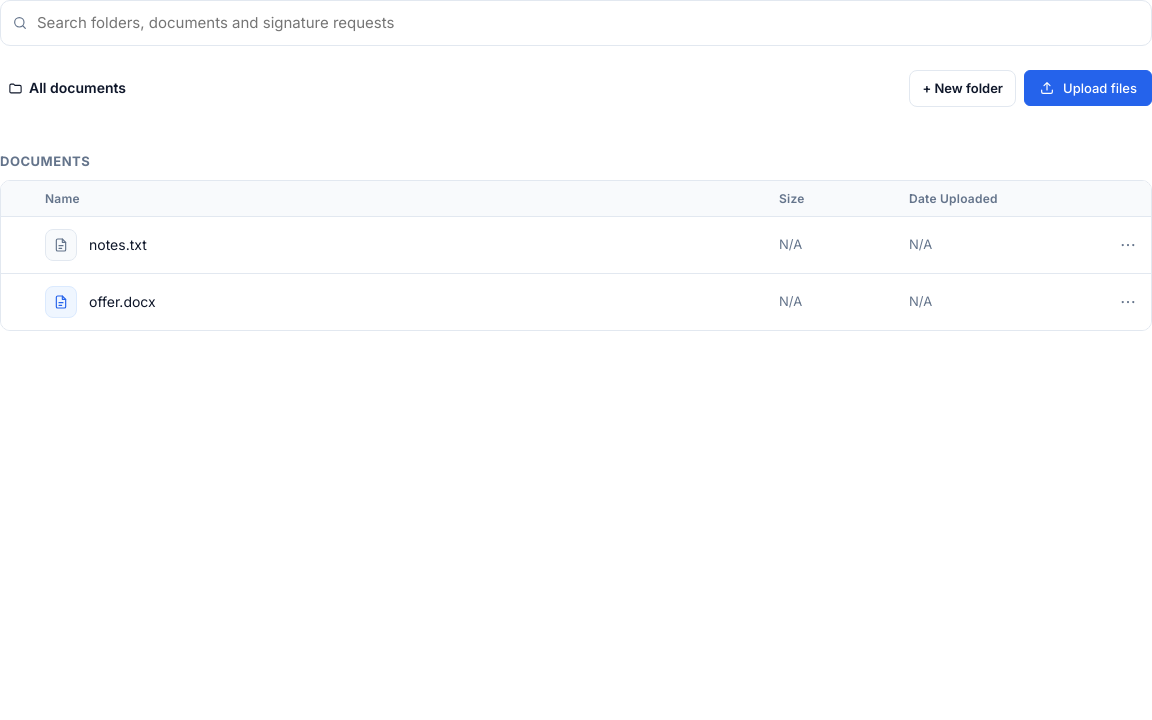
Test: a text file is shown as text, and a document that can’t be shown says so
This screenshot has width=1152, height=720.
Click the button with aria-label "Open notes.txt" at (118, 245), box [89,234,147,256]
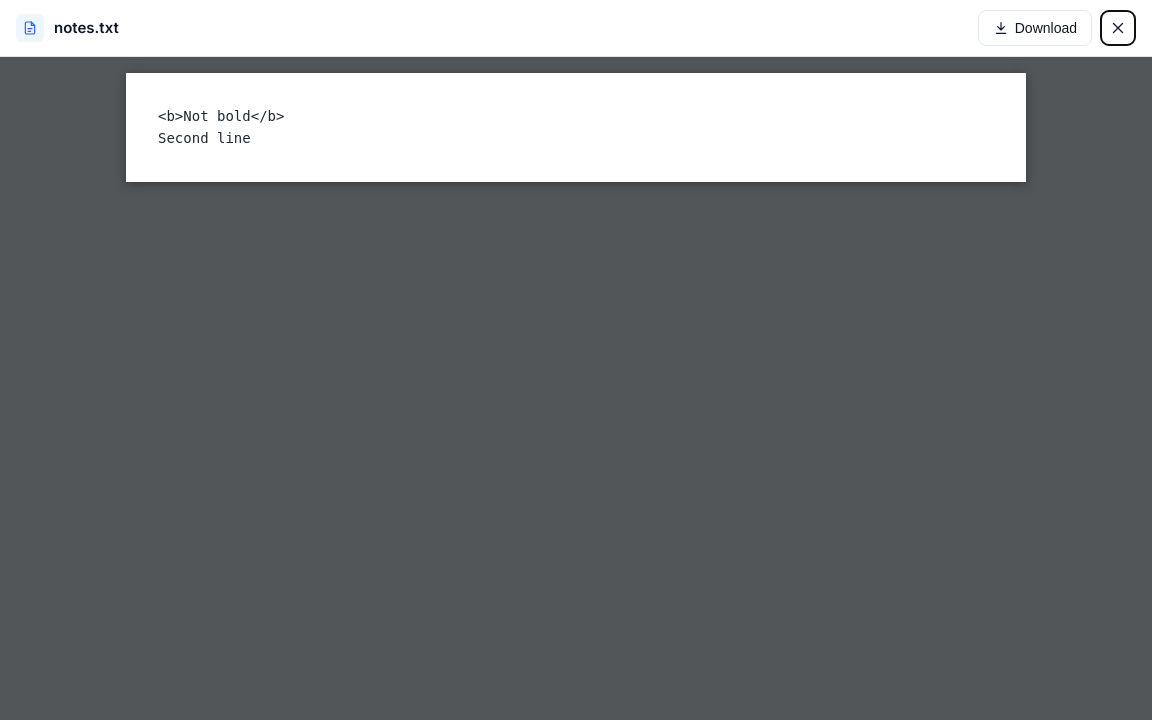
expect the text "<b>Not bold</b> Second line" is shown: met, box [126,73,1026,182]
Click the button named "Close" at (1118, 28), box [1100,10,1136,46]
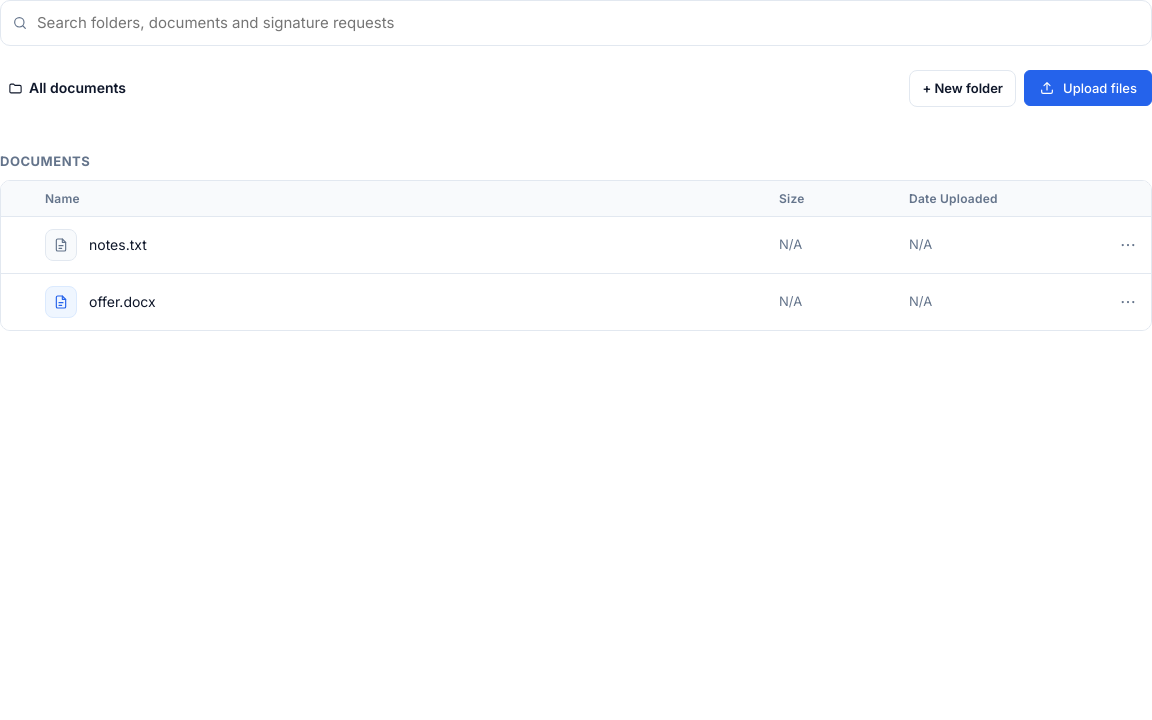
Click the button with aria-label "Open offer.docx" at (122, 302), box [89,291,156,313]
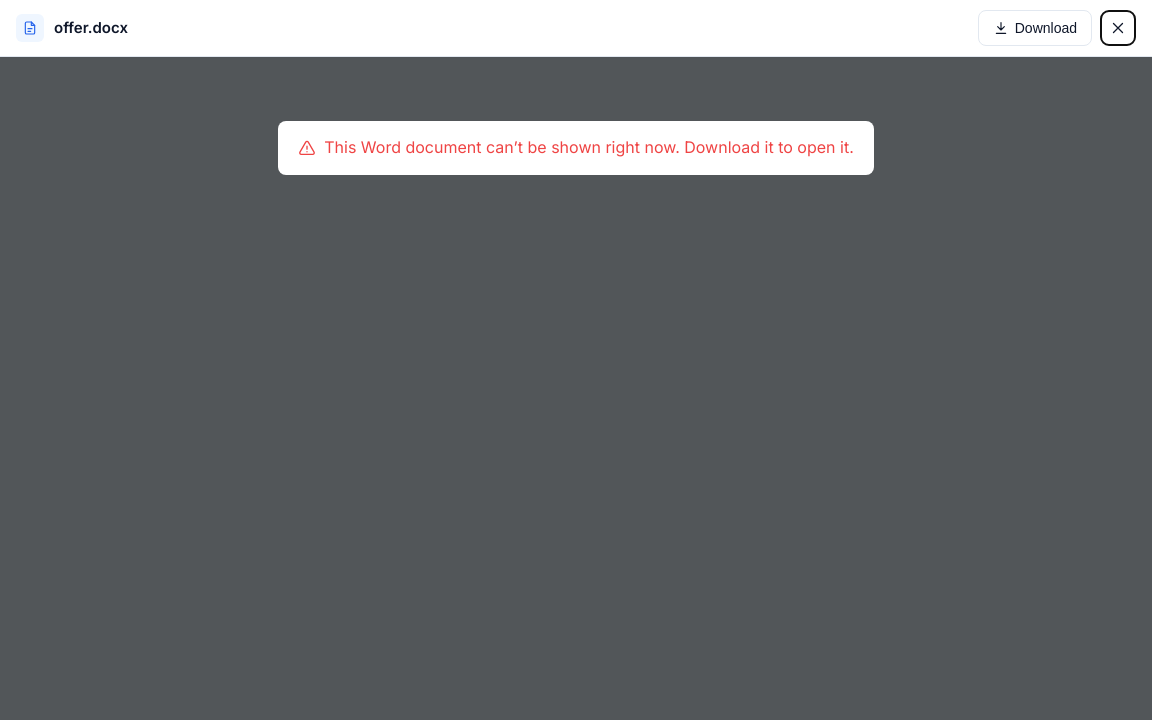
expect the message shows "Download it to open it": met, box [324,137,854,157]
